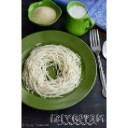idiyappam: (27, 46, 82, 97)
